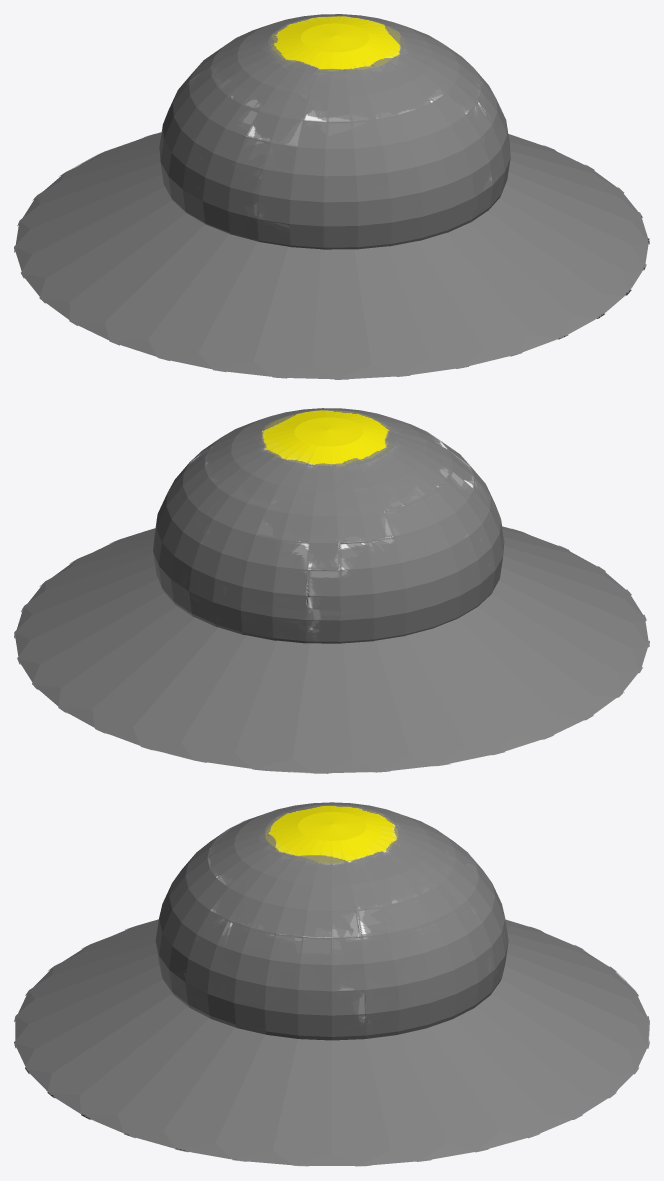
Rendered from ufo.obj.
3 renders of one model, top to bottom at view 1: azimuth 30°, elevation 25°; view 2: azimuth 150°, elevation 25°; view 3: azimuth 270°, elevation 25°, orthographic.
Size of the model in its own units: 1.64 by 0.6658 by 1.64.
